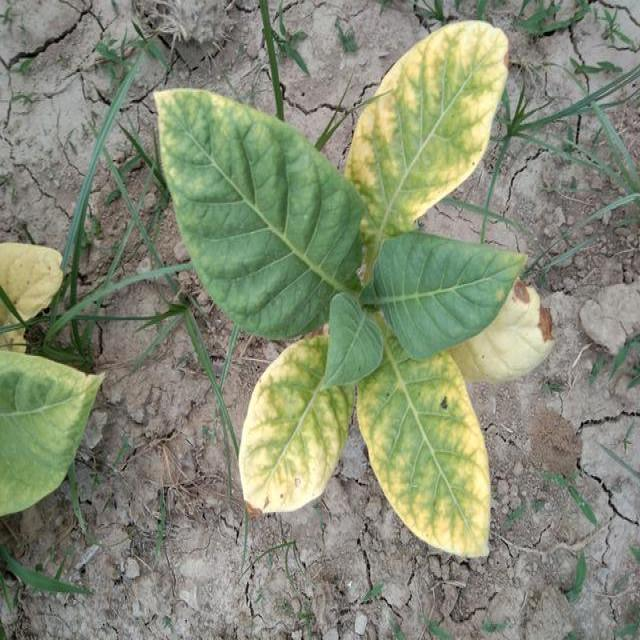crop: (192, 29, 524, 536), (0, 250, 104, 508)
